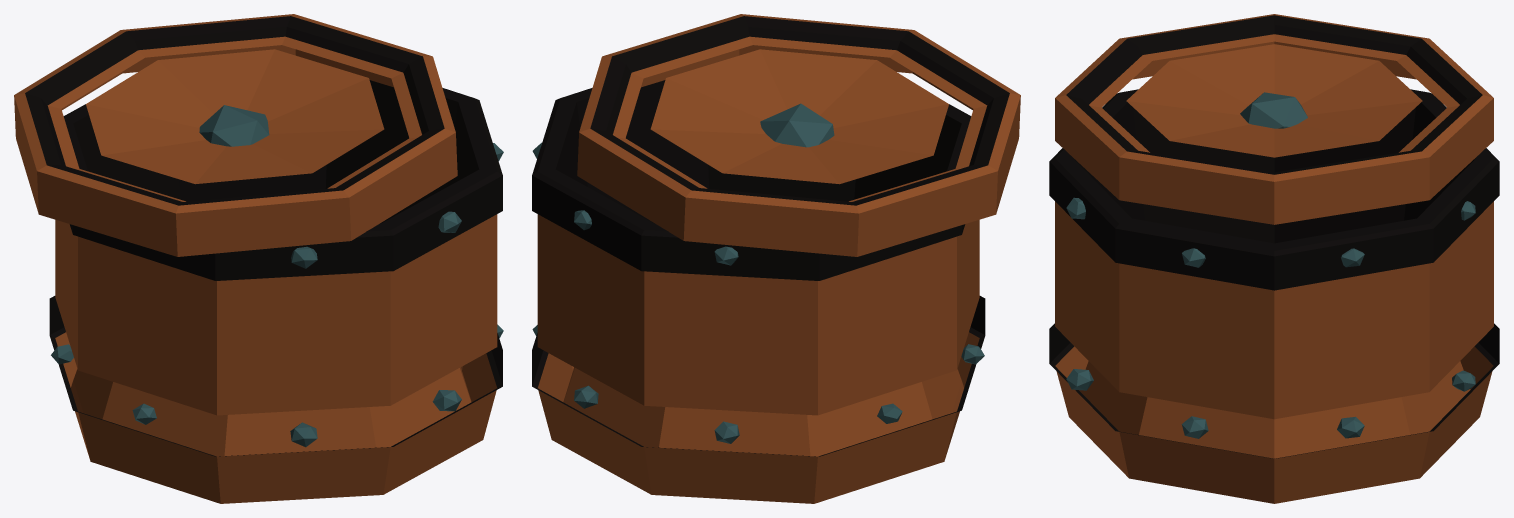
The model's file is Barrel_Alt.fbx.
3 views of the same model, side by side, from view 1: azimuth 30°, elevation 25°; view 2: azimuth 150°, elevation 25°; view 3: azimuth 270°, elevation 25° (orthographic). The views are drawn at different scales.
Visible parts, largest first — view 1: Barrel.003; view 2: Barrel.003; view 3: Barrel.003.
Boxes of the visible parts, x1,y1,x2,y2 form: Barrel.003: (14, 14, 503, 503); Barrel.003: (532, 14, 1020, 503); Barrel.003: (1049, 14, 1499, 503).
Bounding box in the file's own units: 185 × 141 × 201.
